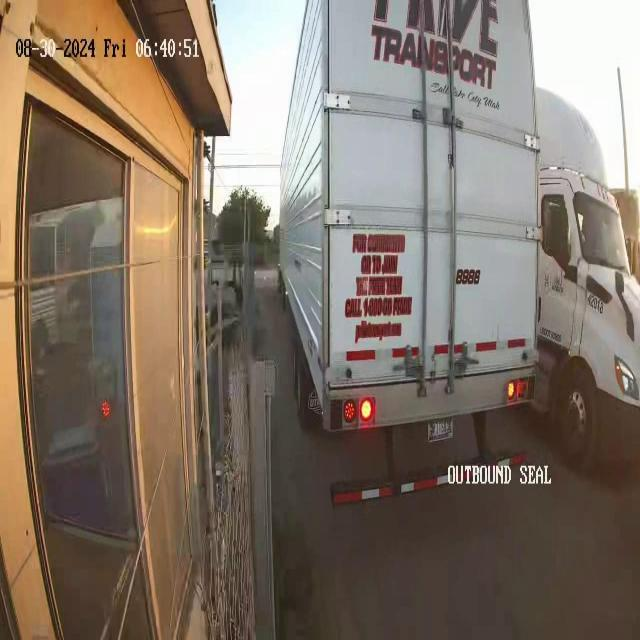TRUCK_IN: (541, 84, 640, 462)
TRUCK_OUT: (273, 0, 544, 477)
